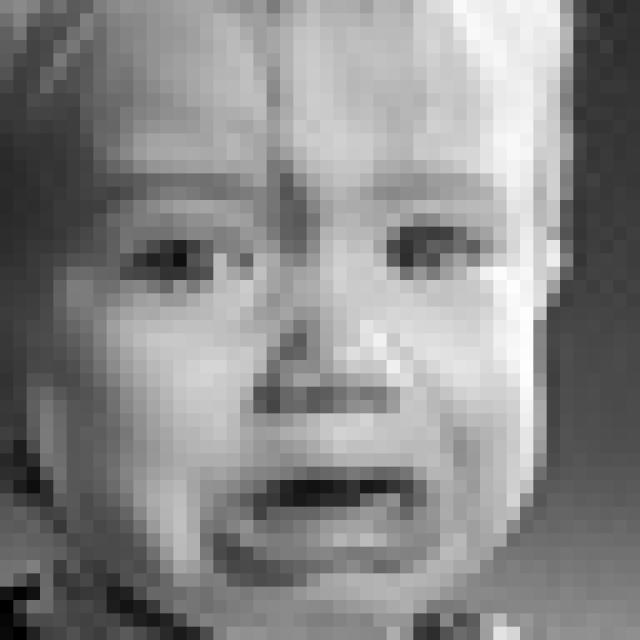sad: (88, 144, 524, 588)
